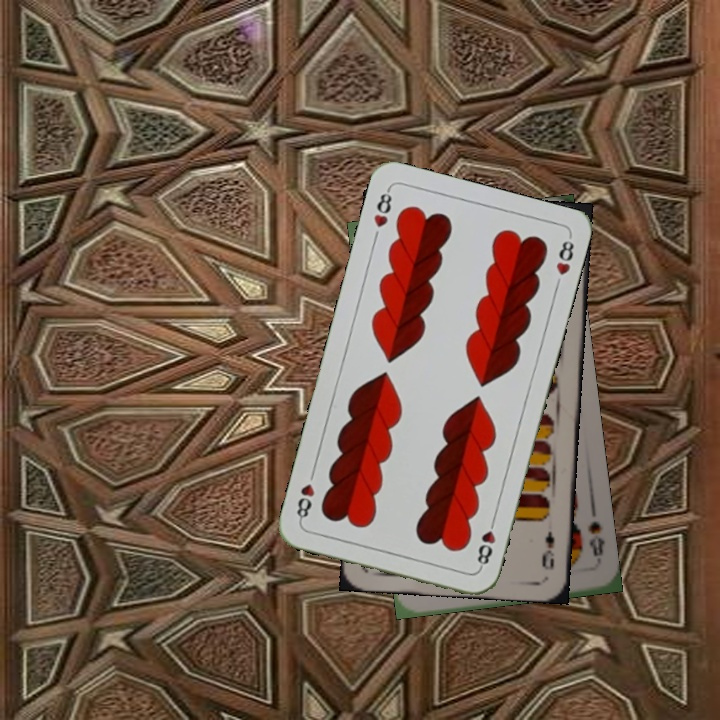E9: (537, 527, 557, 572)
H8: (473, 513, 498, 571), (369, 185, 395, 230)
S8: (583, 517, 607, 559)
